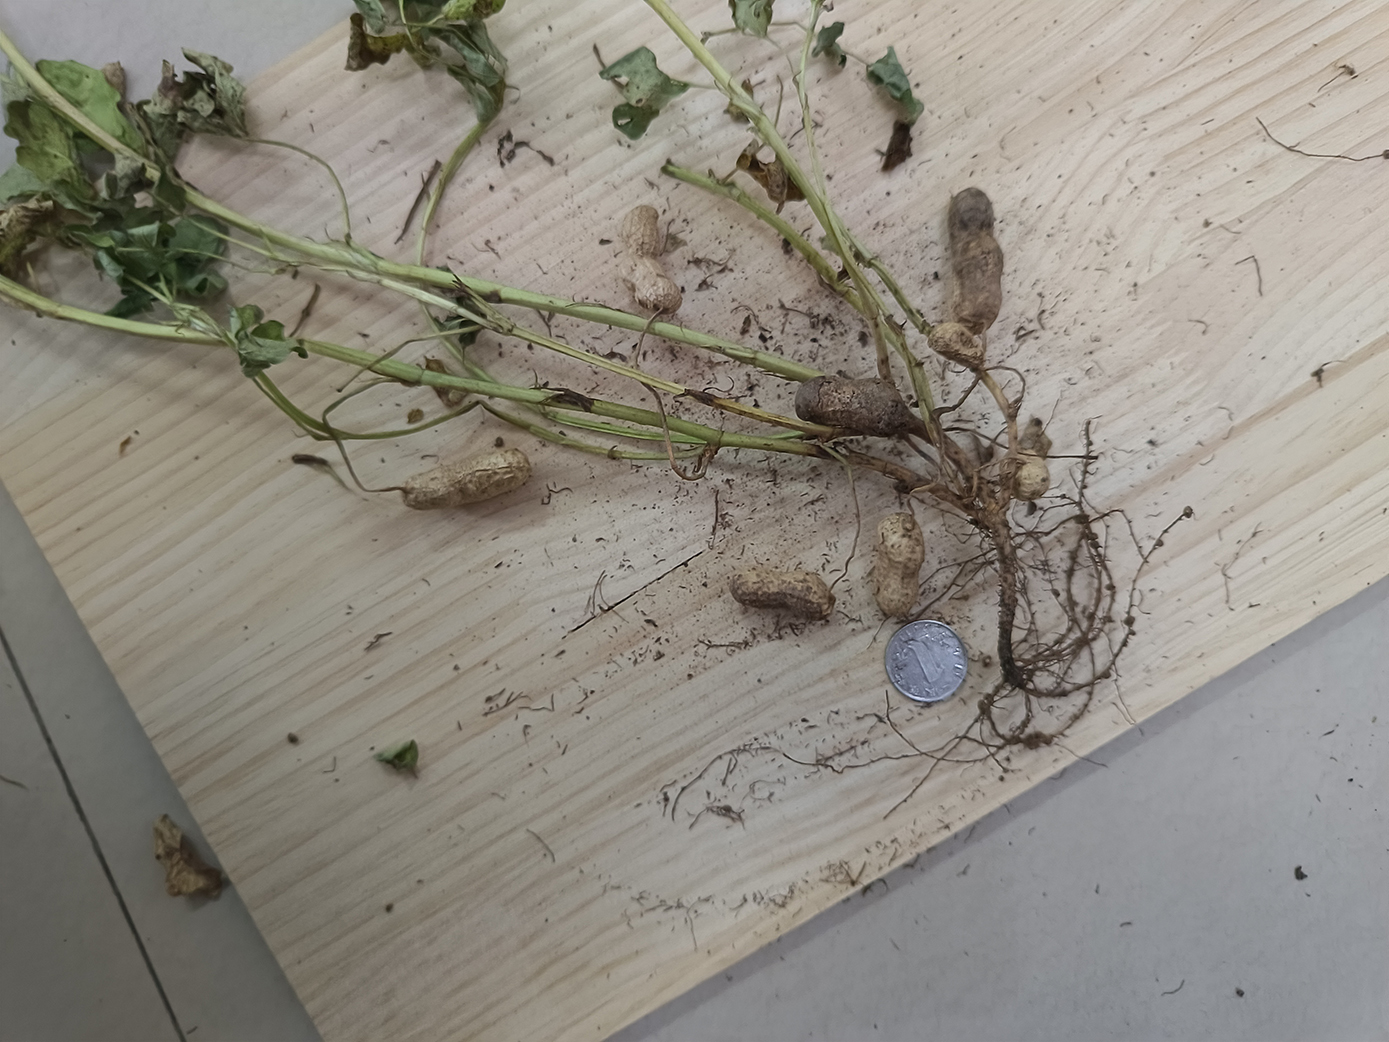h: (400, 449, 534, 507), (618, 208, 685, 314), (729, 567, 840, 624), (873, 516, 924, 618), (929, 324, 985, 364), (1006, 453, 1049, 499)
l: (946, 188, 1005, 326), (797, 380, 911, 438)
